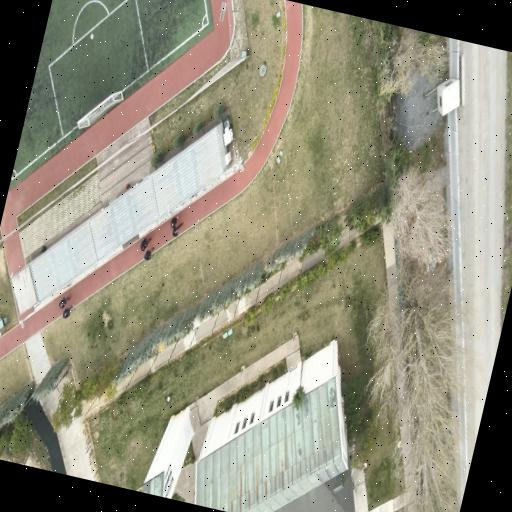person: (171, 222, 182, 236), (62, 304, 72, 318), (58, 296, 69, 308), (143, 248, 153, 260), (140, 238, 149, 250), (170, 216, 177, 226), (39, 245, 46, 252)
